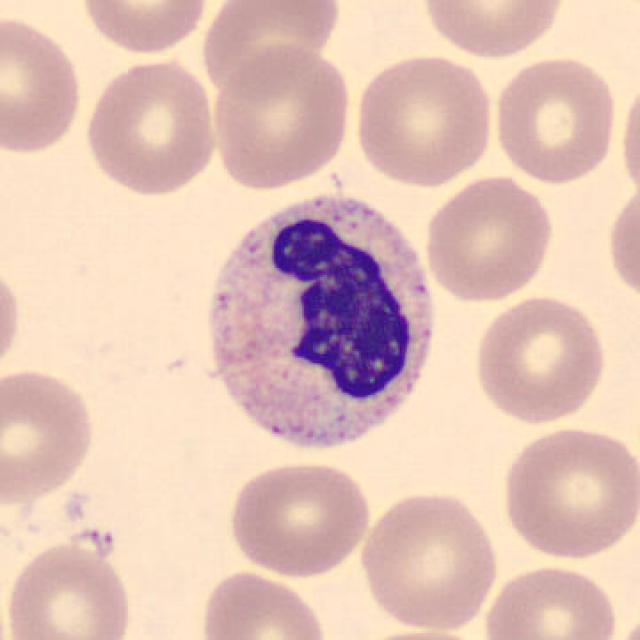Neutrophil: (196, 180, 446, 471)
RBC: (206, 39, 354, 192), (356, 487, 503, 631), (80, 53, 222, 199), (350, 49, 496, 189), (496, 422, 638, 562), (469, 293, 610, 427), (419, 171, 556, 305), (224, 457, 373, 578), (489, 51, 620, 187), (197, 0, 344, 100), (0, 536, 137, 640), (0, 365, 100, 506), (0, 10, 87, 158), (478, 560, 620, 640), (197, 567, 332, 640), (416, 0, 572, 62), (76, 0, 211, 56), (604, 176, 640, 308), (617, 69, 640, 203), (0, 255, 23, 382), (347, 626, 489, 640)
